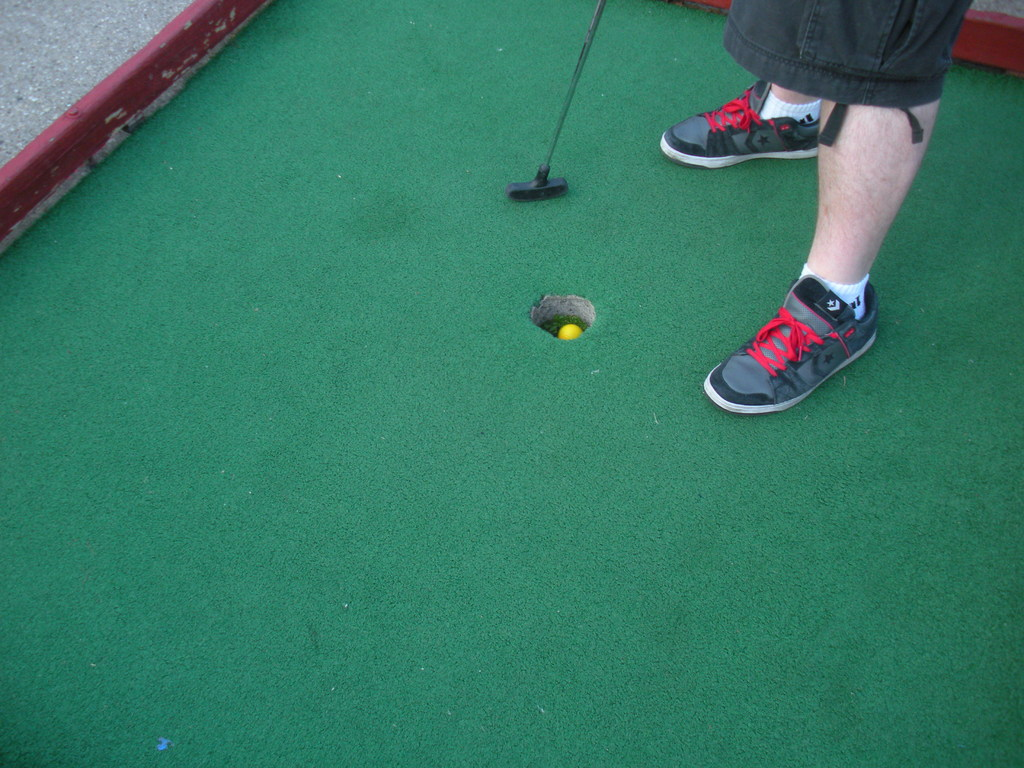Ball: (558, 324, 582, 337)
